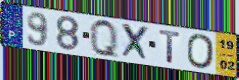8: (55, 15, 81, 52)
9: (26, 11, 50, 47)
O: (186, 33, 216, 71)
Q: (88, 18, 121, 61)
T: (158, 29, 182, 65)
X: (120, 22, 151, 64)
